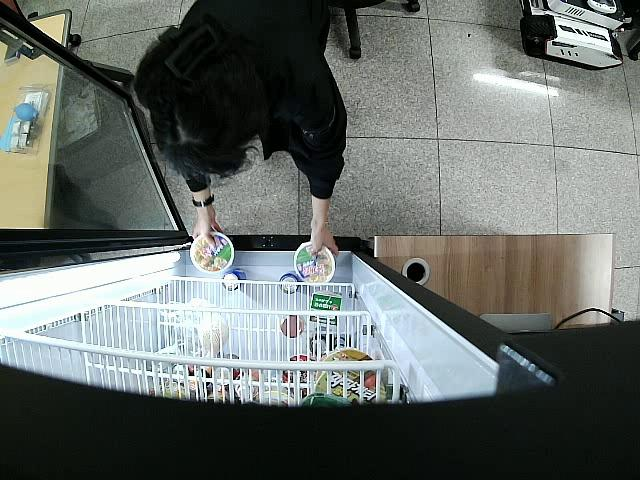00_hand: (309, 219, 341, 256), (191, 216, 224, 249)
09_yukGaeJang: (190, 234, 234, 274), (293, 243, 335, 284)
